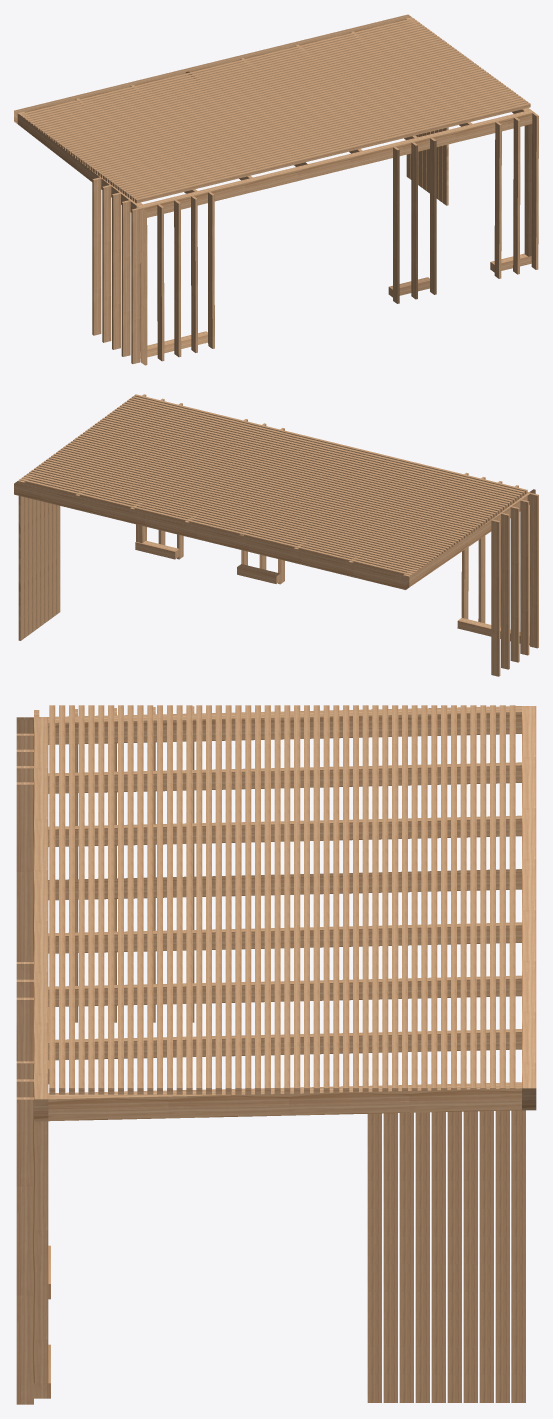
The model's file is pergola_structure.glb.
The picture shows the model from 3 angles, top to bottom: view 1: azimuth 30°, elevation 25°; view 2: azimuth 150°, elevation 25°; view 3: azimuth 270°, elevation 25°; orthographic projection. The views are drawn at different scales.
Parts seen in each view (by area): view 1: Material4 (×21), dense_beam_0, dense_beam_9, dense_beam_12, dense_beam_7, dense_beam_15, dense_beam_18, dense_beam_21, dense_beam_27, dense_beam_3, dense_beam_6, dense_beam_16 (+37 smaller); view 2: Material4 (×12), dense_beam_47, dense_beam_3, dense_beam_9, dense_beam_12, dense_beam_14, dense_beam_22, dense_beam_19, dense_beam_21, dense_beam_4, dense_beam_6, dense_beam_11 (+47 smaller); view 3: Material4 (×14), wall_beam_rotated_node_9, wall_beam_rotated_node_8, wall_beam_rotated_node_7, wall_beam_rotated_node_6, wall_beam_rotated_node_5, wall_beam_rotated_node_4, wall_beam_rotated_node_3, wall_beam_rotated_node_2, wall_beam_rotated_node_1, wall_beam_rotated_node_0, dense_beam_0 (+47 smaller).
Boxes of the visible parts, bbox=[...] form: Material4 (×21): bbox=[14, 14, 538, 365]; dense_beam_0: bbox=[135, 103, 530, 203]; dense_beam_9: bbox=[112, 86, 508, 187]; dense_beam_12: bbox=[105, 81, 501, 181]; dense_beam_7: bbox=[117, 90, 513, 190]; dense_beam_15: bbox=[98, 76, 493, 176]; dense_beam_18: bbox=[90, 70, 486, 170]; dense_beam_21: bbox=[83, 65, 478, 165]; dense_beam_27: bbox=[68, 54, 464, 154]; dense_beam_3: bbox=[127, 97, 523, 197]; dense_beam_6: bbox=[120, 92, 515, 192]; dense_beam_16: bbox=[95, 74, 491, 174]; Material4 (×12): bbox=[14, 472, 538, 676]; dense_beam_47: bbox=[19, 478, 412, 575]; dense_beam_3: bbox=[127, 399, 520, 499]; dense_beam_9: bbox=[112, 410, 505, 510]; dense_beam_12: bbox=[105, 416, 498, 515]; dense_beam_14: bbox=[100, 419, 493, 519]; dense_beam_22: bbox=[80, 433, 473, 533]; dense_beam_19: bbox=[87, 428, 480, 528]; dense_beam_21: bbox=[83, 432, 476, 531]; dense_beam_4: bbox=[124, 401, 517, 501]; dense_beam_6: bbox=[119, 405, 512, 504]; dense_beam_11: bbox=[107, 414, 500, 513]; Material4 (×14): bbox=[16, 706, 536, 1404]; wall_beam_rotated_node_9: bbox=[511, 1110, 525, 1402]; wall_beam_rotated_node_8: bbox=[495, 1110, 509, 1402]; wall_beam_rotated_node_7: bbox=[479, 1111, 493, 1402]; wall_beam_rotated_node_6: bbox=[463, 1111, 477, 1402]; wall_beam_rotated_node_5: bbox=[447, 1111, 461, 1402]; wall_beam_rotated_node_4: bbox=[431, 1112, 445, 1402]; wall_beam_rotated_node_3: bbox=[415, 1112, 429, 1402]; wall_beam_rotated_node_2: bbox=[399, 1112, 413, 1402]; wall_beam_rotated_node_1: bbox=[383, 1113, 397, 1402]; wall_beam_rotated_node_0: bbox=[367, 1113, 381, 1402]; dense_beam_0: bbox=[49, 705, 55, 1094].
Size of the model in its own units: 301 by 114 by 170.
1 material, 1 textured.
